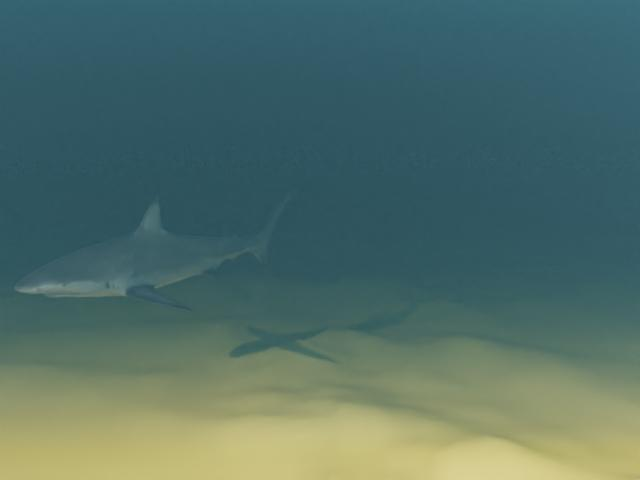Carribean Shark.001: (14, 186, 301, 311)
